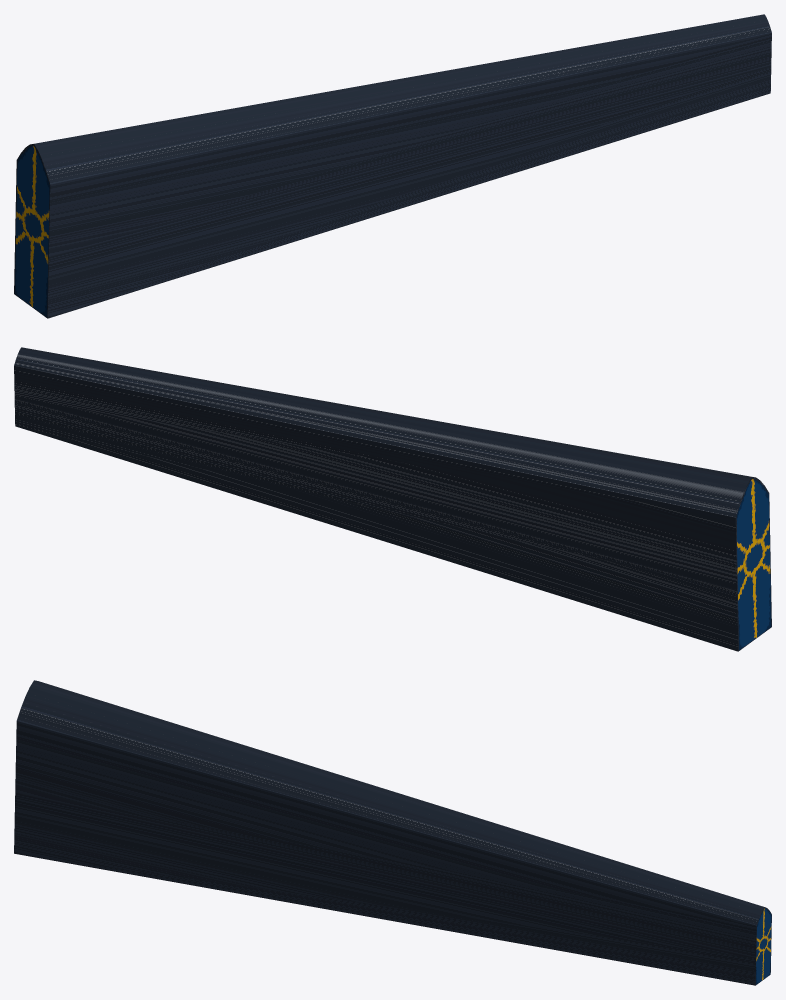
File: light_model_2.fbx
3 views of the same model, one above another, from view 1: azimuth 30°, elevation 25°; view 2: azimuth 150°, elevation 25°; view 3: azimuth 330°, elevation 25° (orthographic).
Visible parts, largest first — view 1: Cube.019; view 2: Cube.019; view 3: Cube.019.
Part boxes in pixels (left/top/right/bottom): Cube.019: left=14, top=14, right=771, bottom=318; Cube.019: left=14, top=347, right=771, bottom=651; Cube.019: left=14, top=680, right=771, bottom=985.
Bounding box in the file's own units: 10148 × 2139 × 806.
